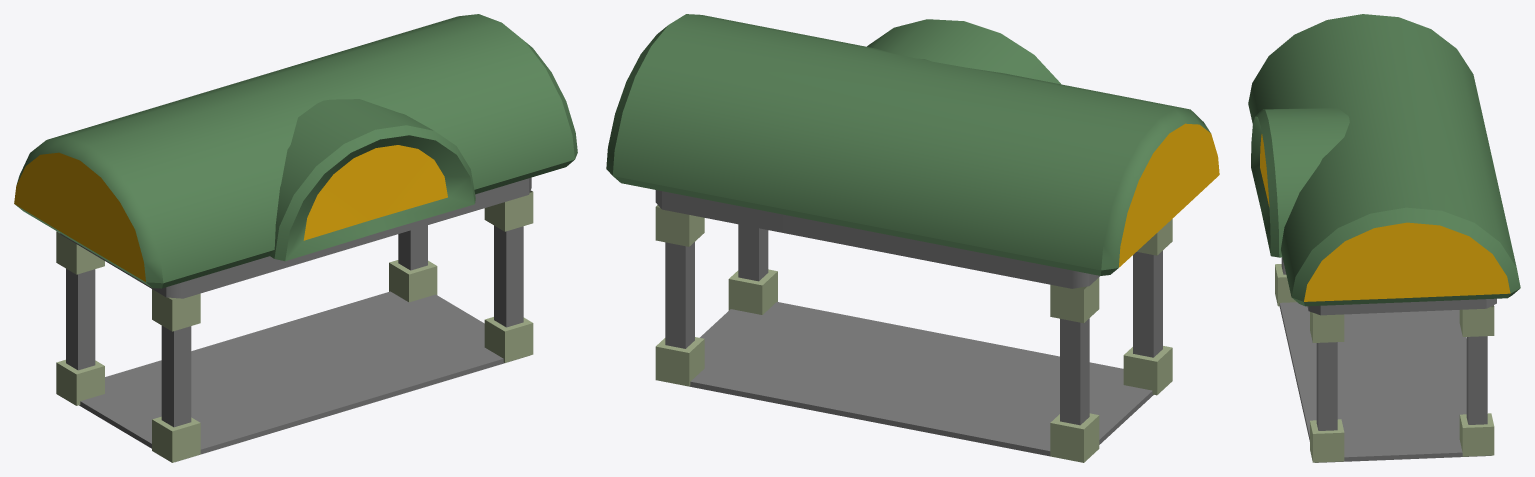
The model's file is SM_Station2.fbx.
3 renders of one model, left to right at view 1: azimuth 30°, elevation 25°; view 2: azimuth 150°, elevation 25°; view 3: azimuth 270°, elevation 25°, orthographic. The views are drawn at different scales.
Visible parts, largest first — view 1: SM_Station2; view 2: SM_Station2; view 3: SM_Station2.
Boxes of the visible parts, <box> form: SM_Station2: <box>14,14,577,462</box>; SM_Station2: <box>606,14,1219,462</box>; SM_Station2: <box>1248,14,1520,462</box>.
Size of the model in its own units: 606 by 355 by 331.
